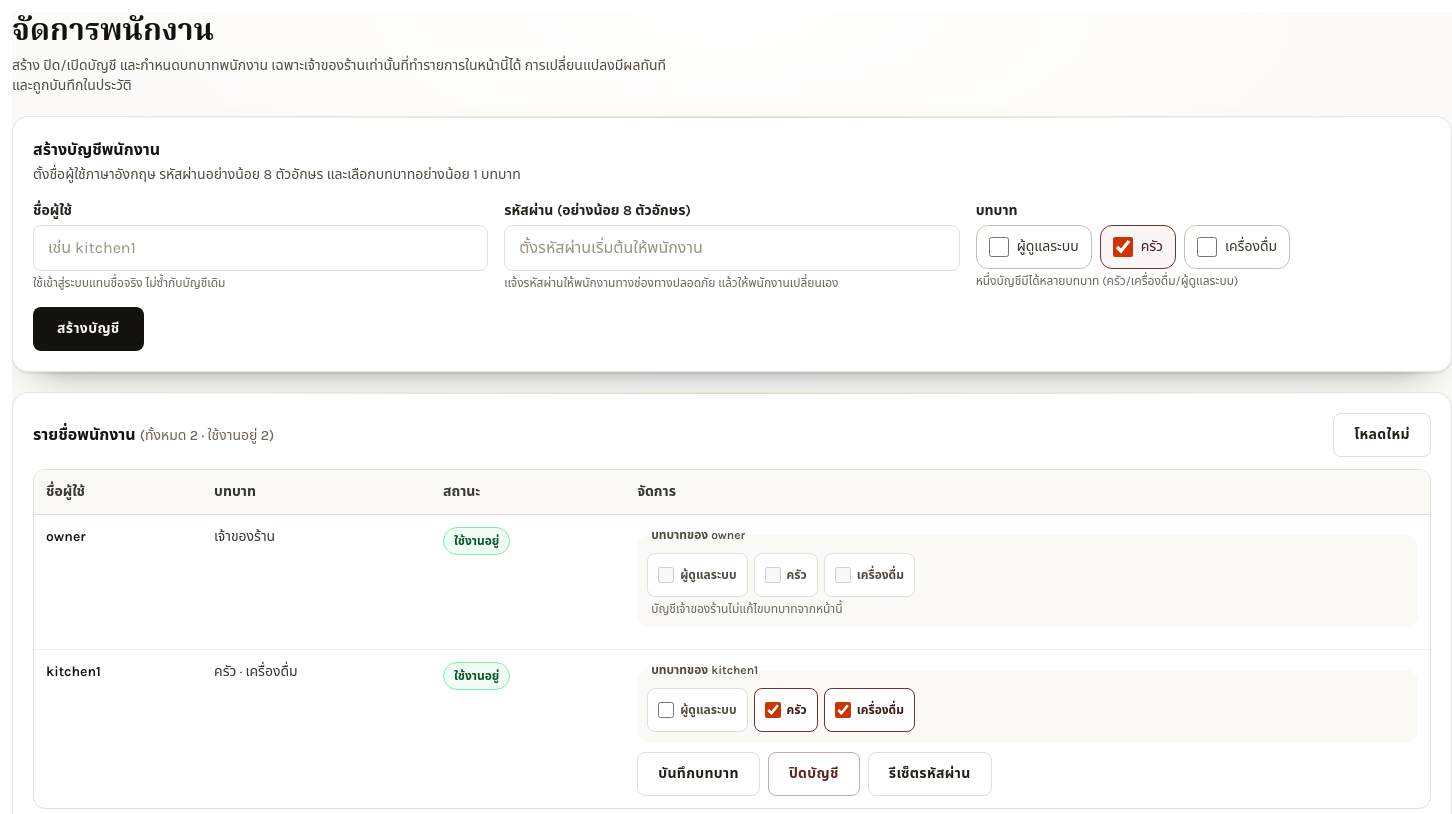
it: หน้าจัดการพนักงาน › สร้างพนักงานแล้วแสดงข้อความสำเร็จภาษาไทย
The image size is (1452, 814).
Type "newstaff" into the field labelled "ชื่อผู้ใช้".
click(261, 248); type("newstaff")  # box [33,225,488,271]
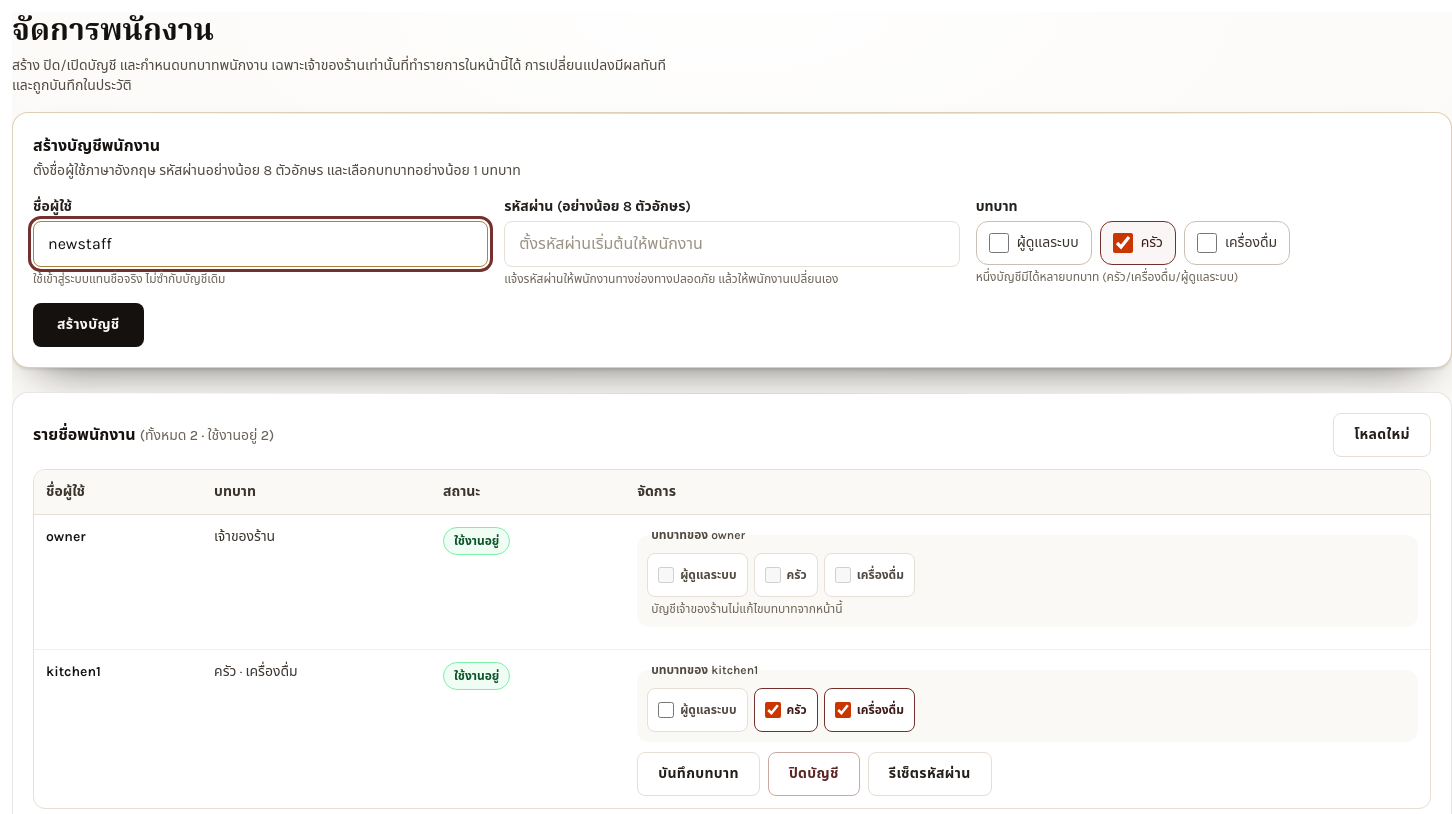
Type "NewStaff99" into the password field labelled "รหัสผ่าน (อย่างน้อย 8 ตัวอักษร)".
click(732, 244); type("NewStaff99")  # box [504,221,960,267]
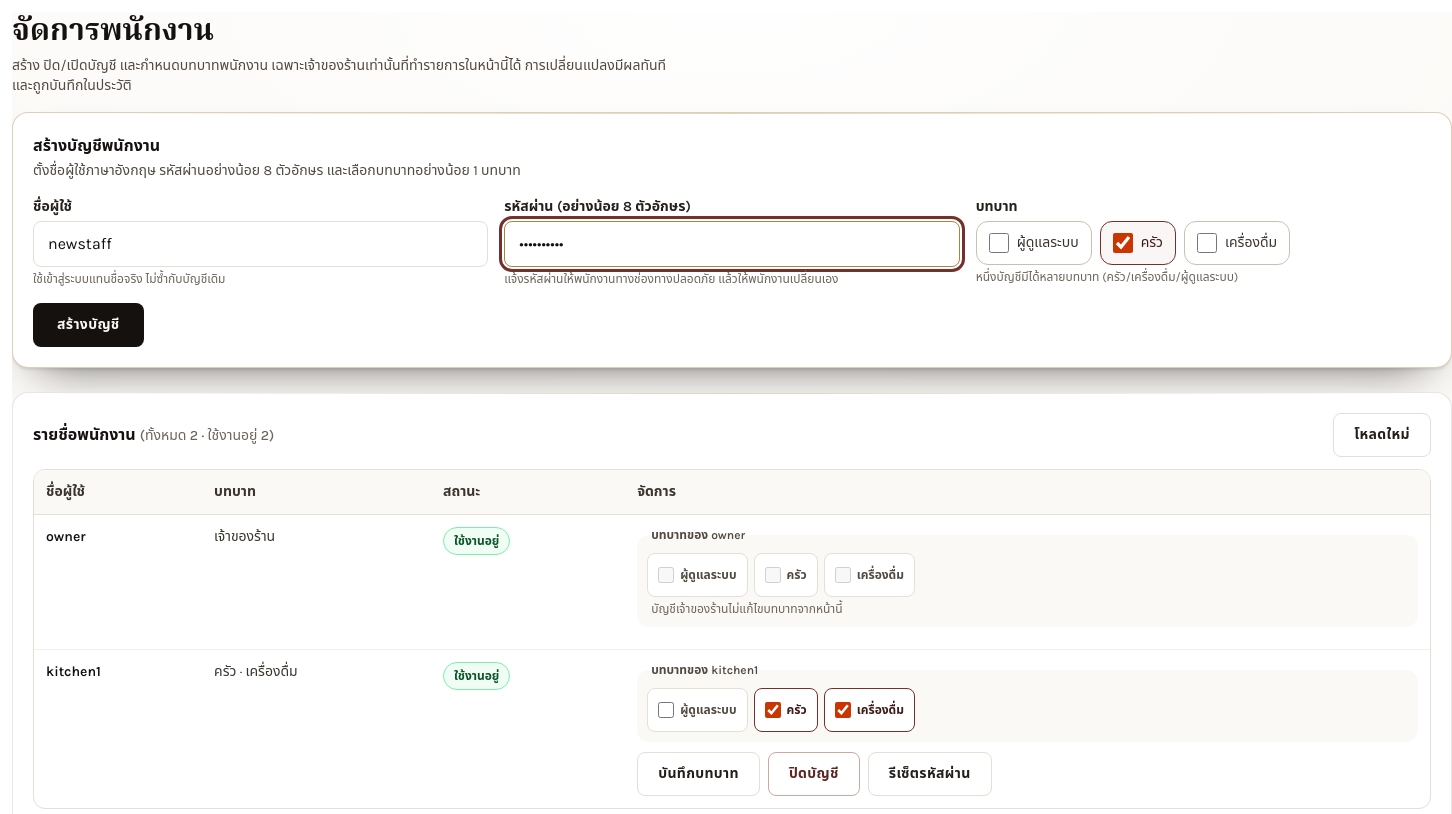
Click the button "สร้างบัญชี".
click(88, 325)  # box [33,303,144,347]
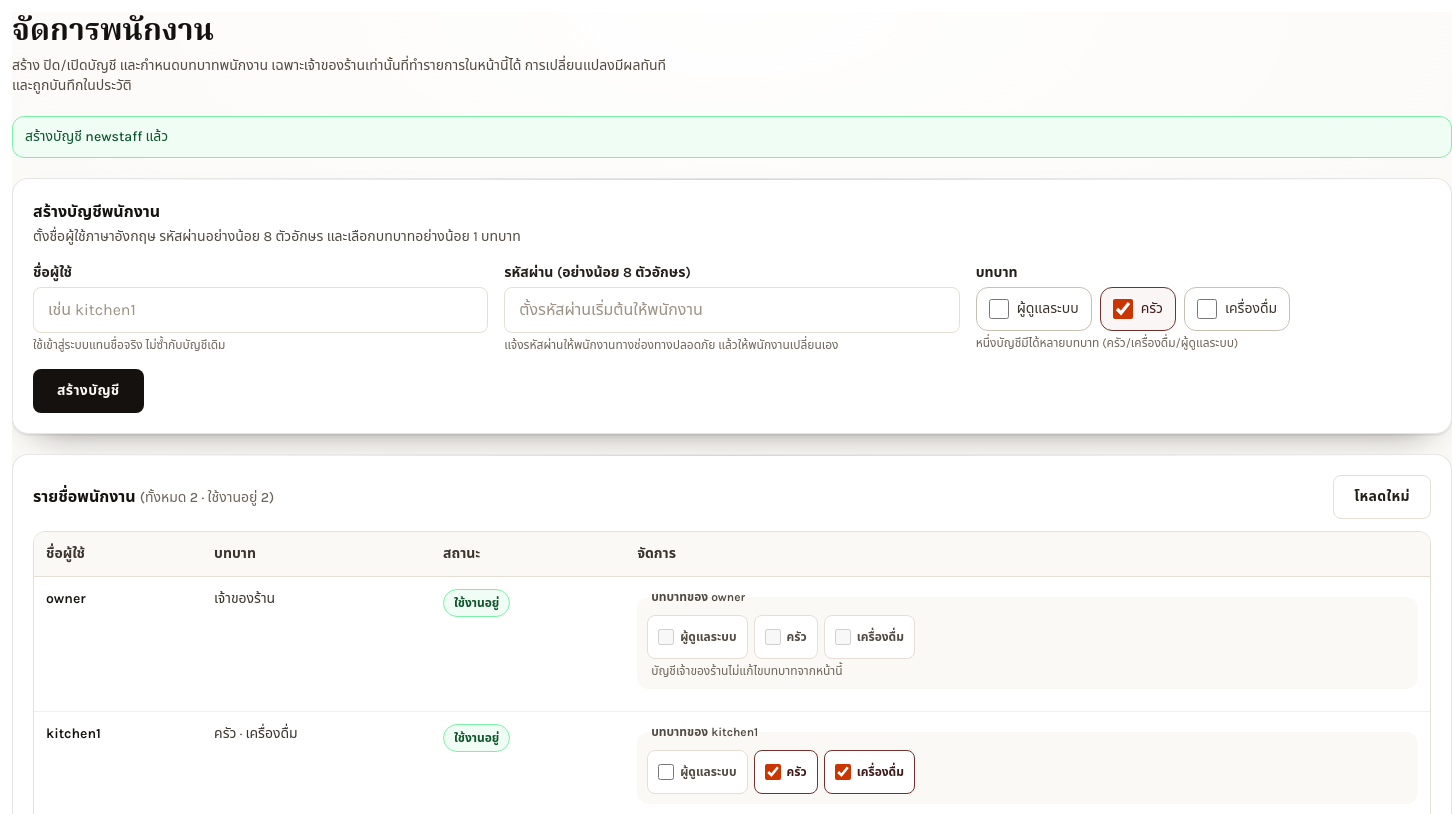
Now the message reads "สร้างบัญชี newstaff แล้ว", box [25,128,168,144]
